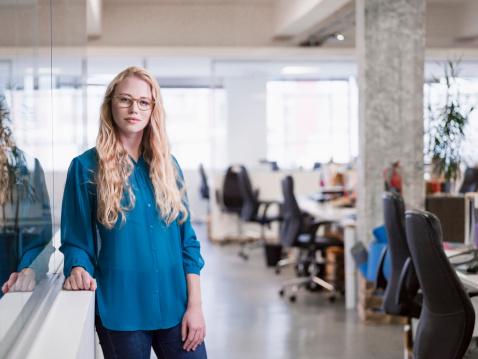em pe: (55, 56, 206, 359)
